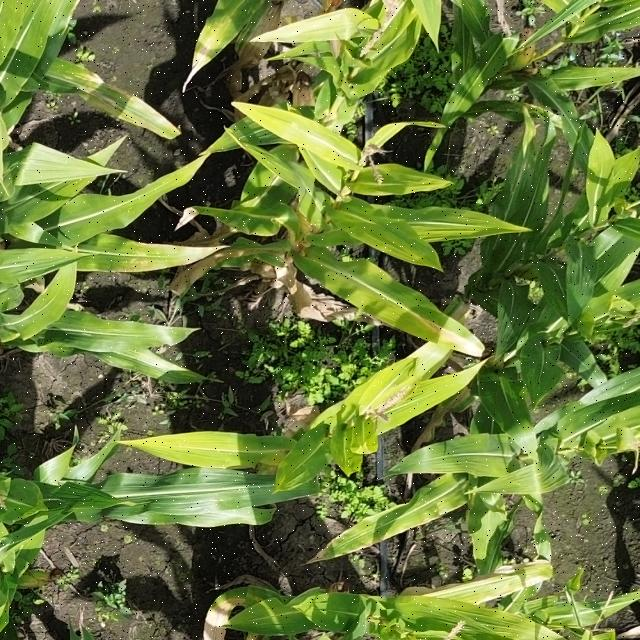gray-leaf-spot: (62, 69, 142, 113), (44, 316, 107, 349), (501, 146, 536, 194)
northern-leaf-blight: (400, 303, 484, 354), (202, 581, 260, 639), (192, 10, 238, 66), (225, 239, 294, 266)
southern-leaf-blight: (115, 239, 175, 273), (337, 518, 383, 552)
